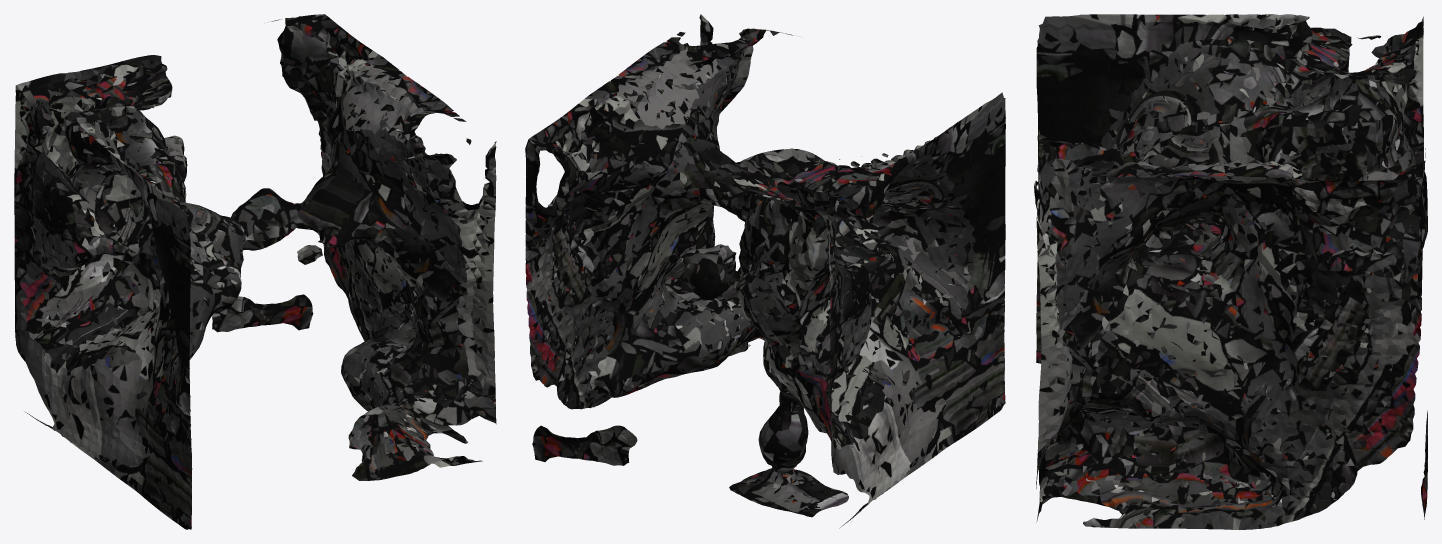
3 renders of one model, left to right at view 1: azimuth 30°, elevation 25°; view 2: azimuth 150°, elevation 25°; view 3: azimuth 270°, elevation 25°, orthographic. The views are drawn at different scales.
Bounding box in the file's own units: 1.01 × 1.01 × 1.02.
